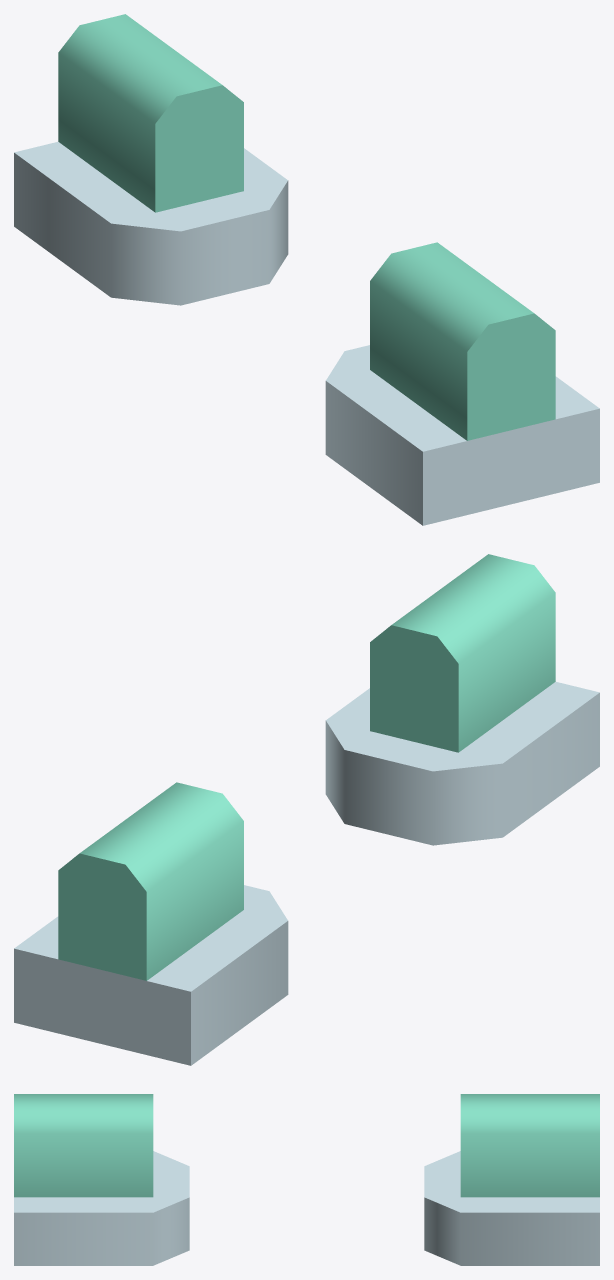
3 renders of one model, top to bottom at view 1: azimuth 30°, elevation 25°; view 2: azimuth 150°, elevation 25°; view 3: azimuth 270°, elevation 25°, orthographic. The views are drawn at different scales.
Parts seen in each view (by area): view 1: hedgeGate; view 2: hedgeGate; view 3: hedgeGate.
Boxes of the visible parts, x1,y1,x2,y2 form: hedgeGate: (14,14,599,525); hedgeGate: (14,554,599,1065); hedgeGate: (14,1094,599,1265).
Size of the model in its own units: 0.25 by 0.25 by 1.
